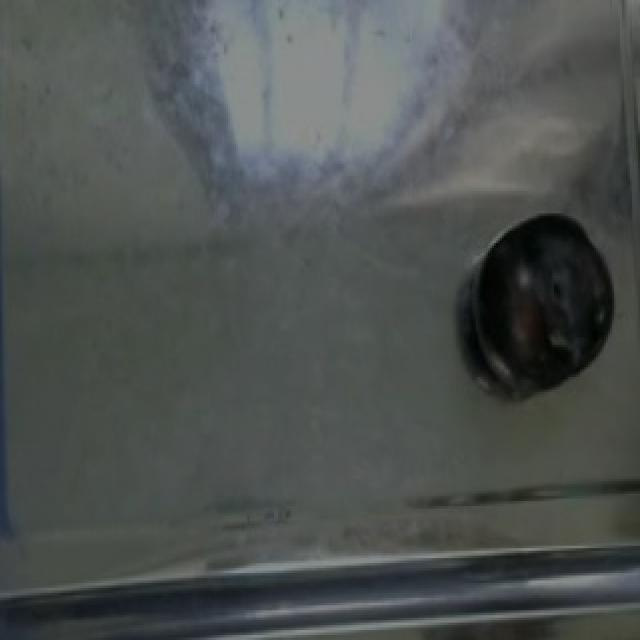Fruit: (466, 206, 620, 387)
